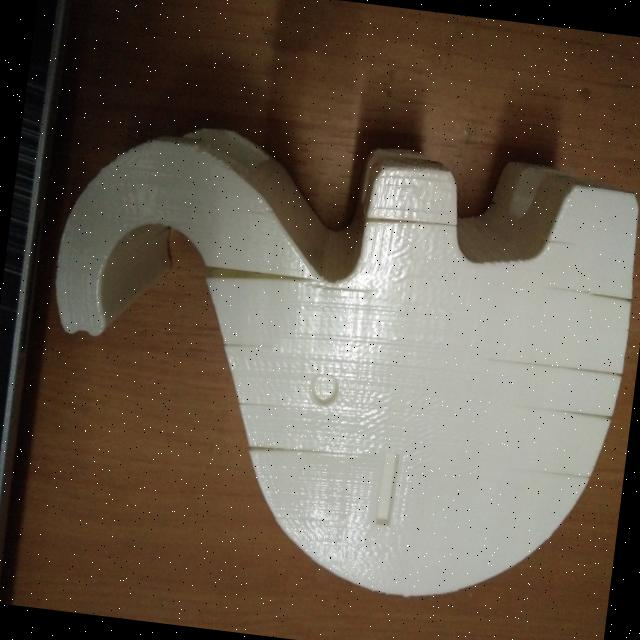cracks: (192, 234, 306, 302), (520, 344, 638, 396), (516, 442, 616, 494), (236, 402, 320, 463), (561, 250, 640, 307)
